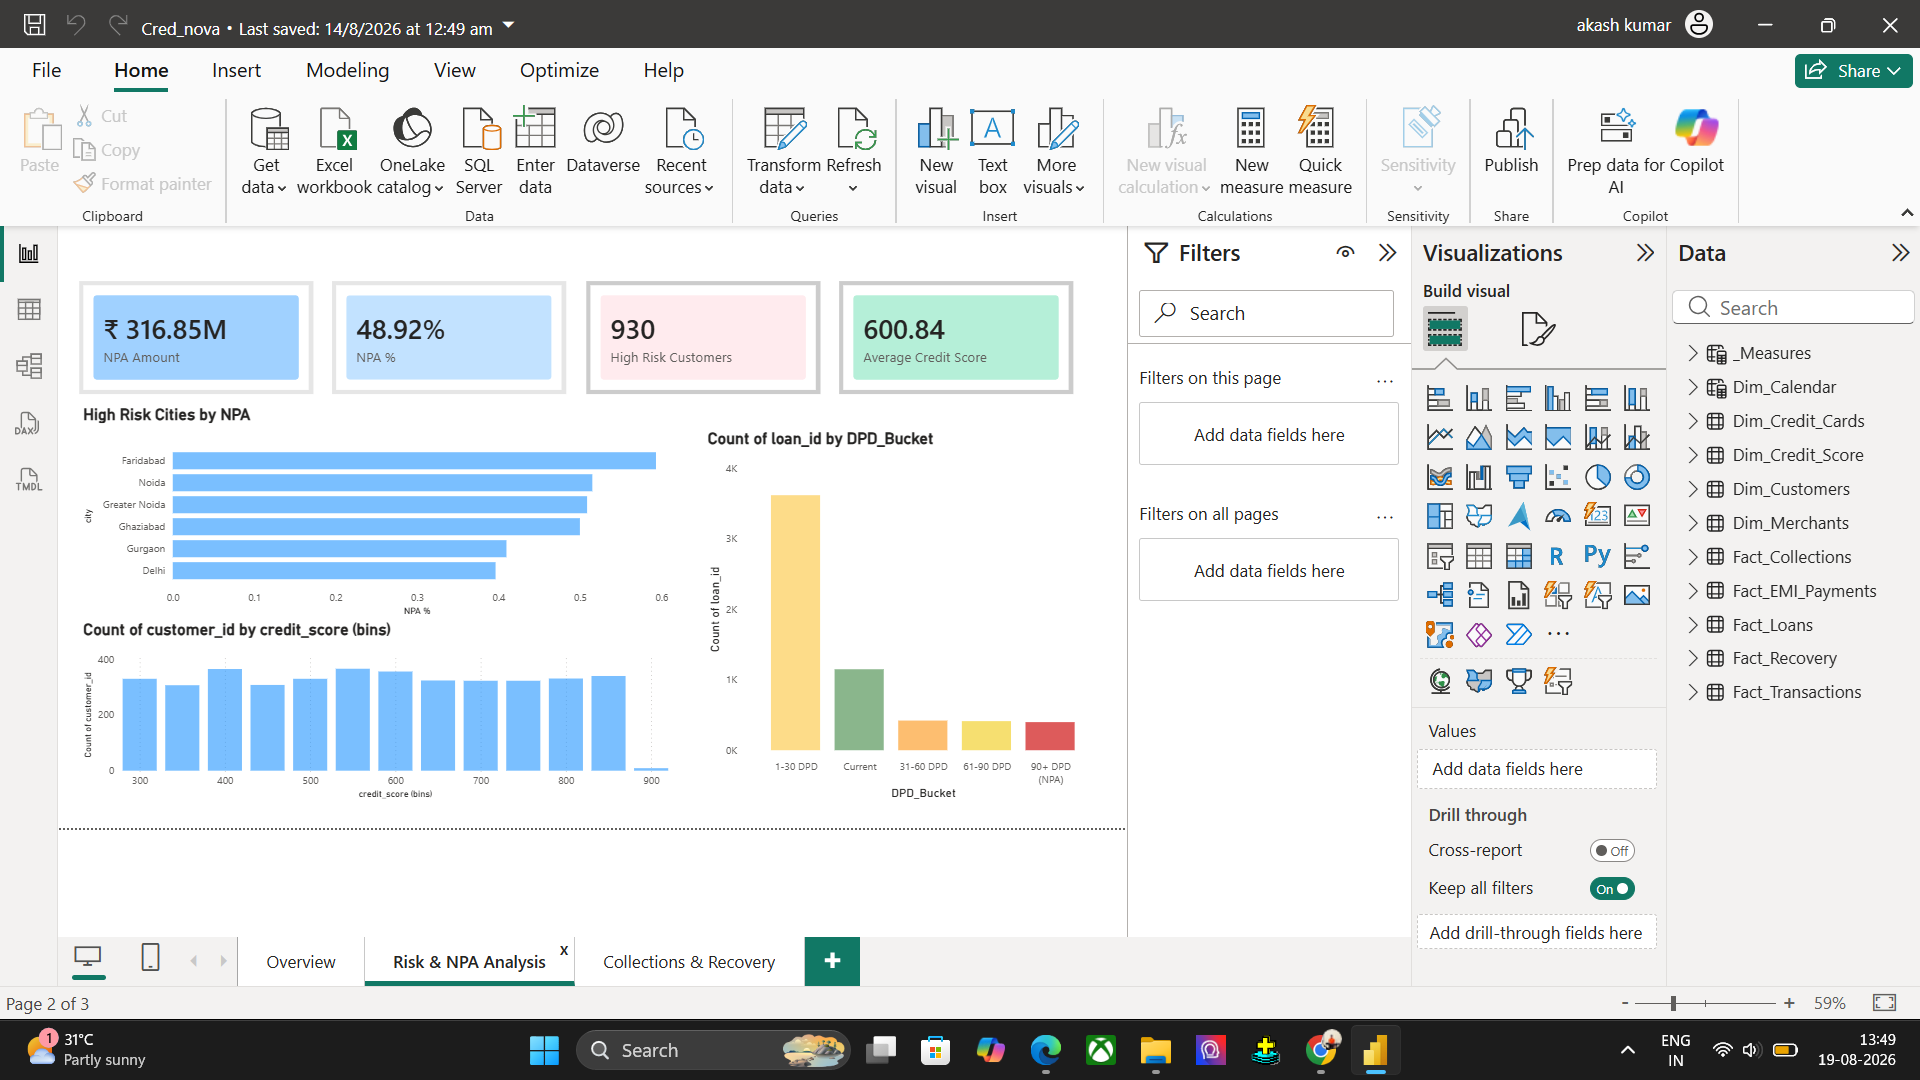

The page's visual inventory and layout, read from the dashboard file:
{"tool":"powerbi","page":{"name":"Risk & NPA Analysis","canvas":[1280,720],"ordinal":1},"visuals":[{"type":"cardVisual","fields":{"Data":["_Measures.NPA Amount"]},"box":[25.4,65.9,280.6,135.2],"z":0},{"type":"cardVisual","fields":{"Data":["_Measures.NPA %"]},"box":[328.5,65.9,280.6,135.2],"z":1000},{"type":"cardVisual","fields":{"Data":["_Measures.High Risk Customers"]},"box":[631.7,65.9,280.6,135.2],"z":2000},{"type":"cardVisual","fields":{"Data":["_Measures.Average Credit Score"]},"box":[934.9,65.9,280.6,135.2],"z":3000},{"type":"clusteredBarChart","title":"High Risk Cities by NPA","fields":{"Category":["Dim_Customers.city"],"Y":["_Measures.NPA %"]},"box":[25.4,214.7,710,257],"z":4000},{"type":"clusteredColumnChart","fields":{"Category":["Fact_EMI_Payments.DPD_Bucket"],"Y":["CountNonNull(Fact_EMI_Payments.loan_id)"]},"box":[772.6,243.4,481.8,448],"z":5000},{"type":"clusteredColumnChart","fields":{"Category":["Dim_Credit_Score.credit_score (bins)"],"Y":["CountNonNull(Dim_Credit_Score.customer_id)"]},"box":[25,472,710,219],"z":6000}]}

Visuals, with their boxes on the page's 1280x720 design canvas (x1, y1, x2, y2). These are canvas units, not pixel positions in the 1920x1080 screenshot, which may show the page scaled, cropped or inside an application window:
cardVisual - _Measures.NPA Amount: (25, 66, 306, 201)
cardVisual - _Measures.NPA %: (328, 66, 609, 201)
cardVisual - _Measures.High Risk Customers: (632, 66, 912, 201)
cardVisual - _Measures.Average Credit Score: (935, 66, 1216, 201)
"High Risk Cities by NPA" clusteredBarChart: (25, 215, 735, 472)
clusteredColumnChart - Fact_EMI_Payments.DPD_Bucket x CountNonNull(Fact_EMI_Payments.loan_id): (773, 243, 1254, 691)
clusteredColumnChart - Dim_Credit_Score.credit_score (bins) x CountNonNull(Dim_Credit_Score.customer_id): (25, 472, 735, 691)
